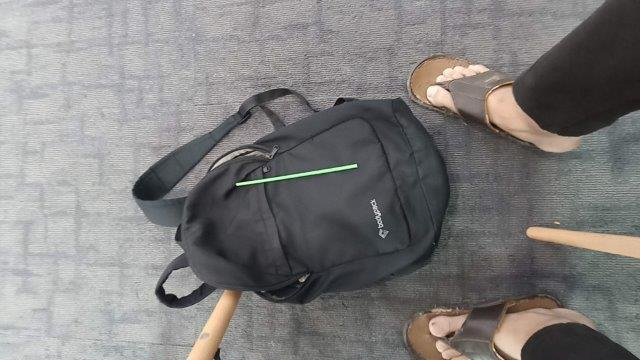sedotan: (237, 164, 357, 186)
